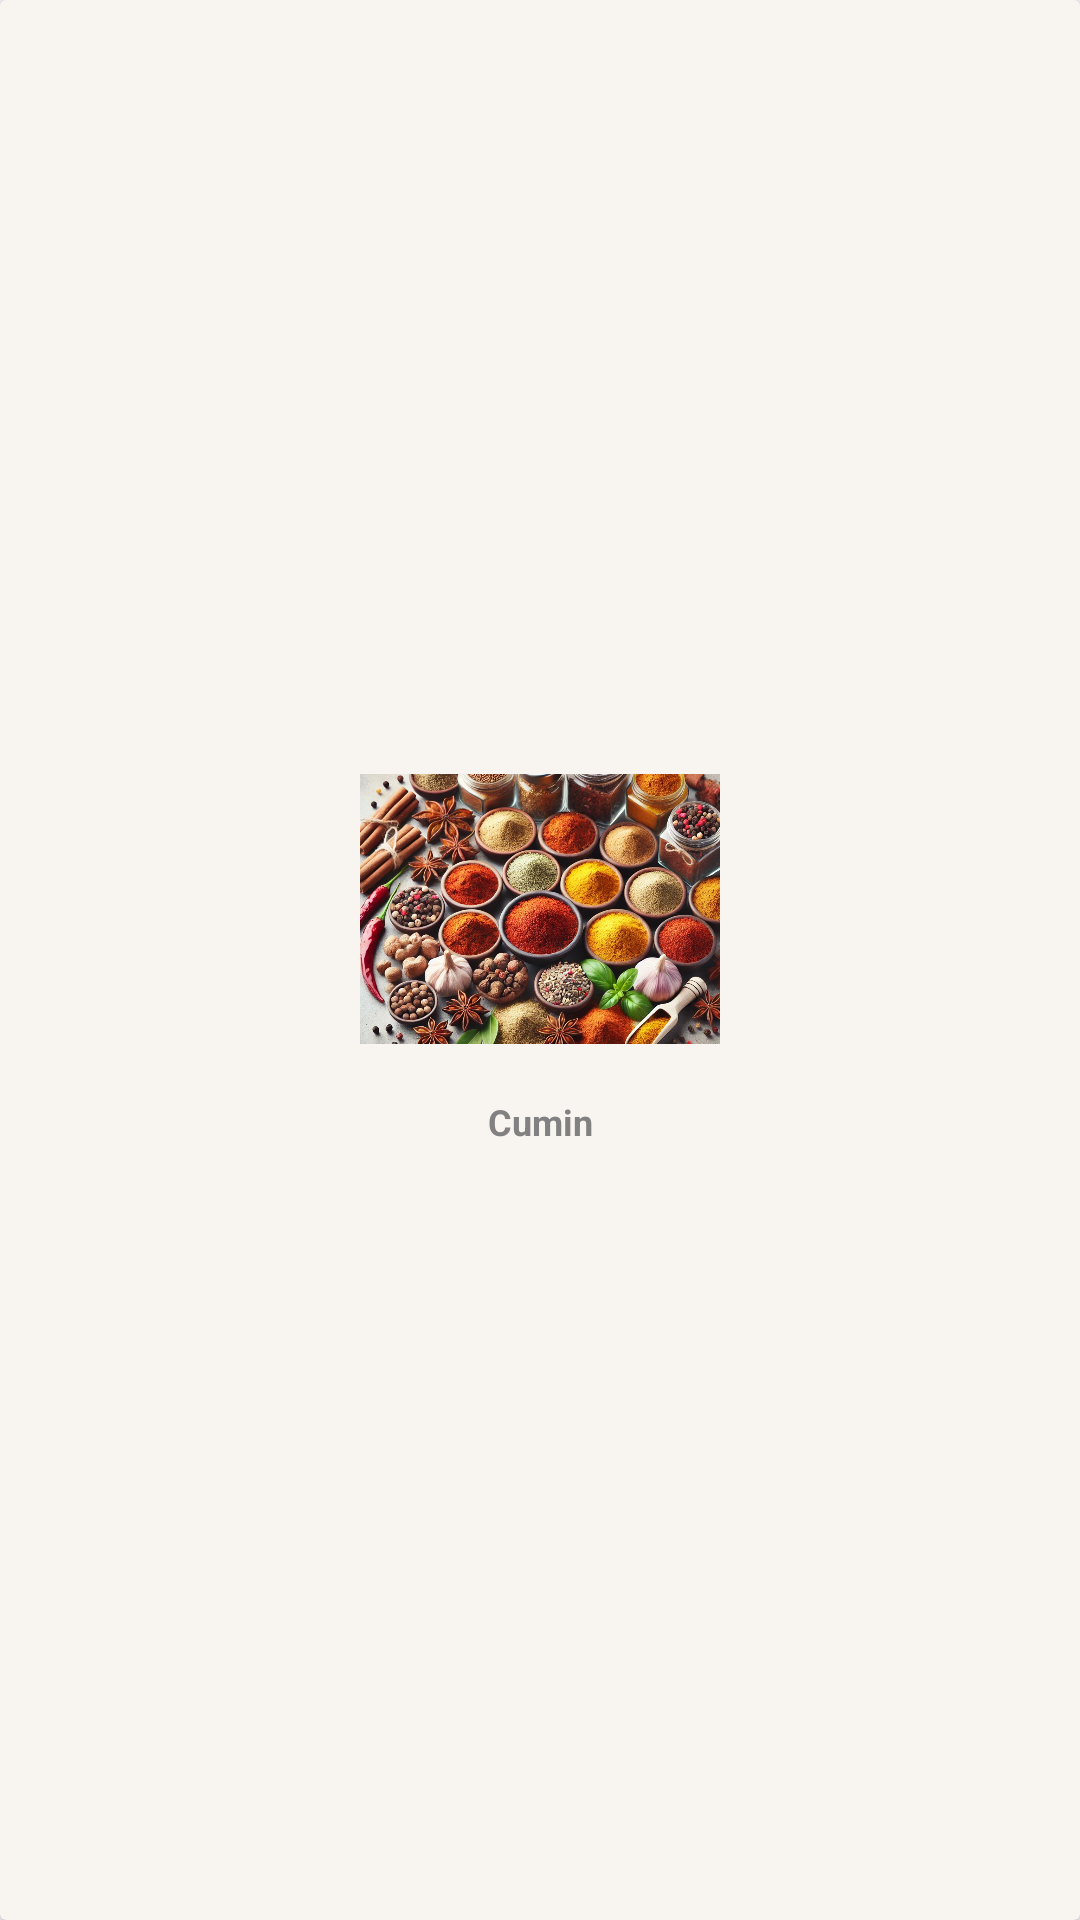

Screen size 1080×1920. Icon name, then its box in pixels as (x1, y1, x2, y2):
spices: (360, 774, 720, 1044)
